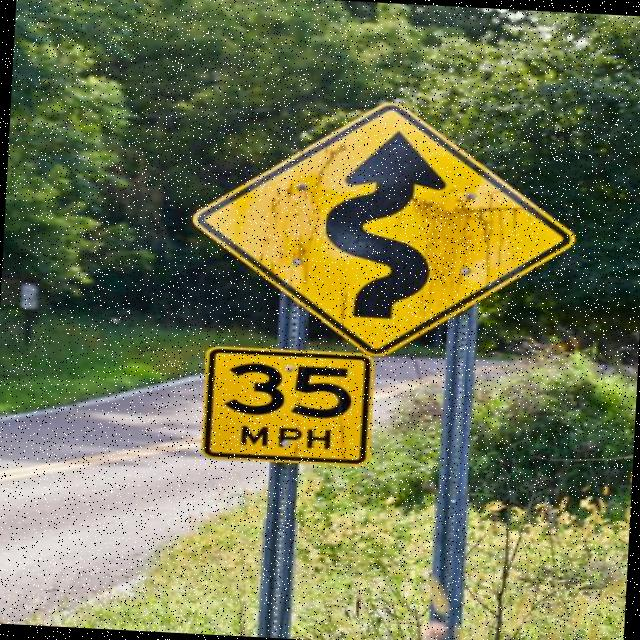left_sharp_curve: (181, 85, 586, 370)
